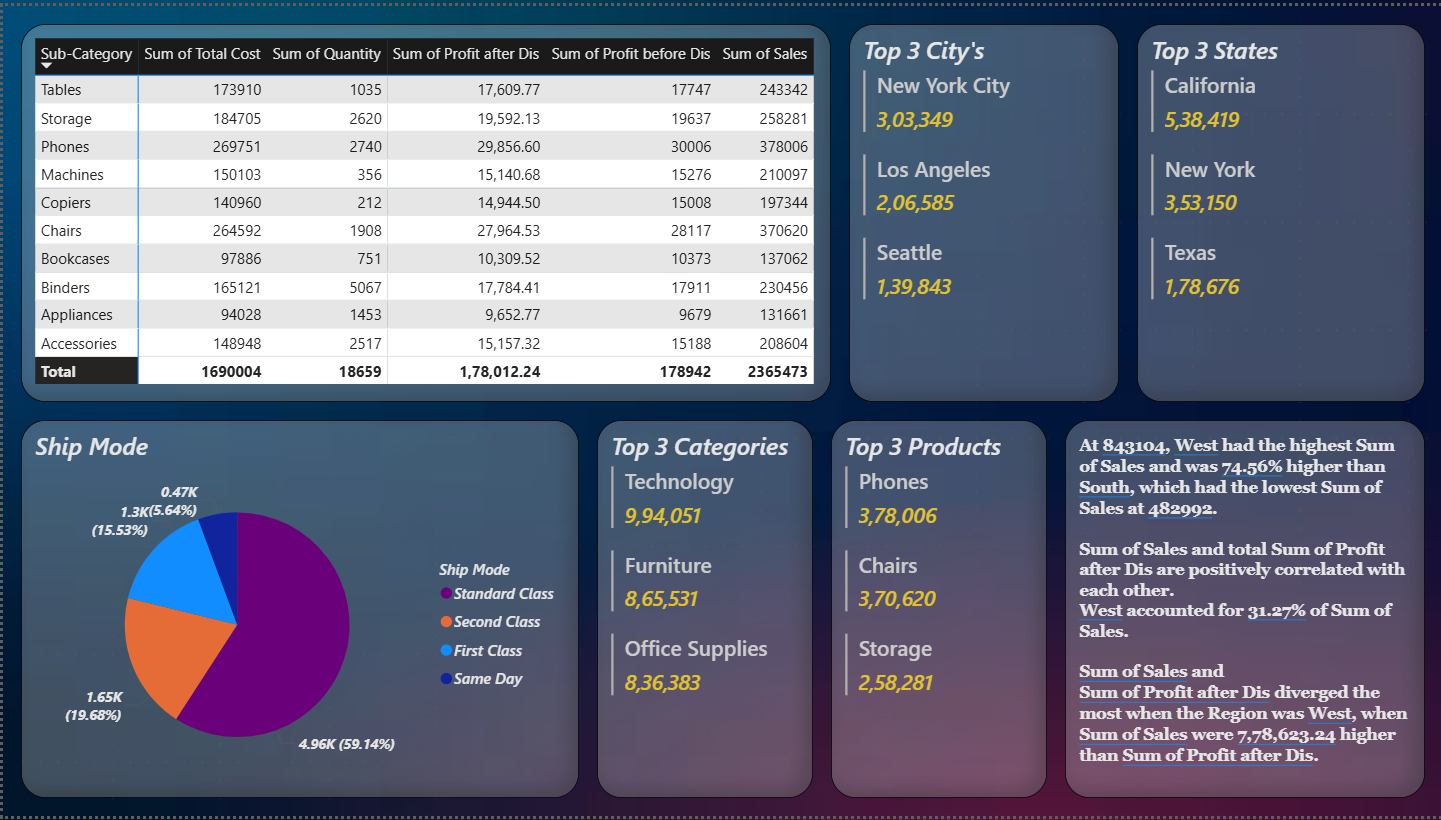

What the dashboard file says about the page in this screenshot:
{"tool":"powerbi","page":{"name":"Page 3","canvas":[1281,720],"ordinal":2},"visuals":[{"type":"pieChart","title":"Ship Mode","fields":{"Category":["Orders.Ship Mode"],"Y":["CountNonNull(Orders.Ship Mode)"]},"box":[16,368,496,336],"z":1},{"type":"pivotTable","fields":{"Rows":["Orders.Sub-Category"],"Values":["Sum(Orders.Total Cost)","Sum(Orders.Quantity)","Sum(Orders.Profit after Dis)","Sum(Orders.Profit before Dis)","Sum(Orders.Sales)"]},"box":[16,16,720,336],"z":2},{"type":"multiRowCard","title":"Top 3 City''s","fields":{"Values":["Sum(Orders.Sales)","Orders.City"]},"box":[752,16,240,336],"z":3},{"type":"multiRowCard","title":"Top 3 States","fields":{"Values":["Sum(Orders.Sales)","Orders.State"]},"box":[1008,16,256,336],"z":4},{"type":"multiRowCard","title":"Top 3 Categories","fields":{"Values":["Sum(Orders.Sales)","Orders.Category"]},"box":[528,368,192,336],"z":5},{"type":"multiRowCard","title":"Top 3 Products","fields":{"Values":["Orders.Sub-Category","Sum(Orders.Sales)"]},"box":[736,368,192,336],"z":6},{"type":"textbox","box":[944,368,320,336],"z":7}]}

Visuals, with their boxes in screenshot pixels (x1, y1, x2, y2), scaled from the page's 1281x720 canvas onto the 1441x820 screenshot:
"Ship Mode" pieChart: Rect(18, 419, 576, 802)
pivotTable - Orders.Sub-Category x Sum(Orders.Total Cost): Rect(18, 18, 828, 401)
"Top 3 City''s" multiRowCard: Rect(846, 18, 1116, 401)
"Top 3 States" multiRowCard: Rect(1134, 18, 1422, 401)
"Top 3 Categories" multiRowCard: Rect(594, 419, 810, 802)
"Top 3 Products" multiRowCard: Rect(828, 419, 1044, 802)
textbox: Rect(1062, 419, 1422, 802)
